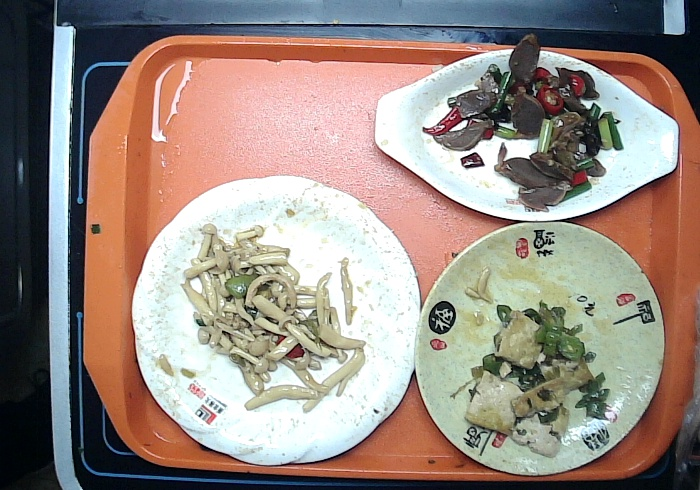NLDX-Bai_Zhe_Yuan_Pan: (126, 173, 424, 465)
NLDX-Fu_Zi_Yuan_Pan: (413, 219, 668, 479)
NLDX-Yu_Pan: (370, 43, 682, 221)
